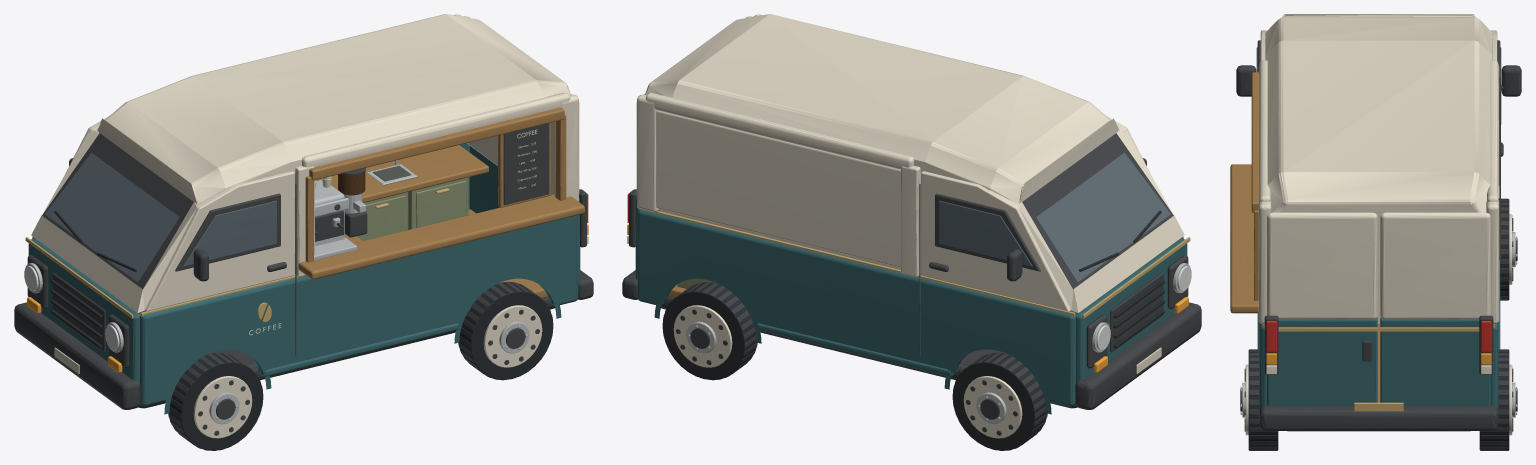
The model's file is coffee-van.glb.
3 views of the same model, side by side, from view 1: azimuth 30°, elevation 25°; view 2: azimuth 150°, elevation 25°; view 3: azimuth 270°, elevation 25° (orthographic). The views are drawn at different scales.
Visible parts, largest first — view 1: Faceted high roof, Lower body service, Windshield glass, Cream cab door surround, Oak counter, Front bumper, Upper roof rail, Windshield surround, Tyre.002, Tyre, Back worktop, Oak hatch header (+30 smaller); view 2: Faceted high roof, Lower body opposite, Closed opposite panel, Windshield glass, Cream cab door surround.001, Upper roof rail.001, Front bumper, Windshield surround, Tyre.003, Tyre.001, Cab side window.001, Front face (+18 smaller); view 3: Faceted high roof, Rear upper door, Rear upper door.001, Rear lower door.001, Rear lower door, Rear bumper, Oak counter, Upper roof rail, Upper roof rail.001, Oak hatch header, Cream rear corner, Cream rear corner.001 (+18 smaller).
Part boxes in pixels (box(x1,y1,x2,y2)): Faceted high roof: box(96, 14, 570, 203); Lower body service: box(140, 215, 578, 406); Windshield glass: box(45, 153, 179, 281); Cream cab door surround: box(145, 171, 294, 311); Oak counter: box(298, 194, 584, 279); Front bumper: box(14, 302, 140, 409); Upper roof rail: box(301, 92, 570, 167); Windshield surround: box(42, 133, 193, 289); Tyre.002: box(459, 282, 553, 379); Tyre: box(169, 353, 263, 450); Back worktop: box(316, 145, 488, 202); Oak hatch header: box(309, 107, 564, 180); Faceted high roof: box(645, 14, 1119, 203); Lower body opposite: box(637, 209, 1075, 406); Closed opposite panel: box(656, 110, 900, 267); Windshield glass: box(1036, 153, 1170, 281); Cream cab door surround.001: box(921, 171, 1070, 311); Upper roof rail.001: box(645, 92, 914, 169); Front bumper: box(1075, 302, 1201, 409); Windshield surround: box(1022, 133, 1173, 289); Tyre.003: box(662, 282, 756, 379); Tyre.001: box(952, 353, 1046, 450); Cab side window.001: box(939, 200, 1032, 266); Front face: box(1075, 238, 1187, 382); Faceted high roof: box(1265, 14, 1492, 216); Rear upper door: box(1267, 212, 1377, 319); Rear upper door.001: box(1380, 212, 1490, 319); Rear lower door.001: box(1380, 317, 1490, 405); Rear lower door: box(1267, 317, 1377, 405); Rear bumper: box(1260, 405, 1497, 430); Oak counter: box(1230, 164, 1258, 313); Upper roof rail: box(1259, 60, 1270, 201); Upper roof rail.001: box(1487, 60, 1498, 201); Oak hatch header: box(1251, 72, 1259, 212); Cream rear corner: box(1258, 200, 1271, 324); Cream rear corner.001: box(1486, 200, 1499, 324).
Size of the model in its own units: 4.93 by 2.76 by 2.47.
